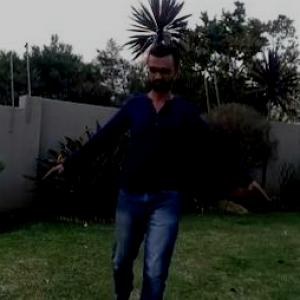land: (68, 28, 228, 296)
